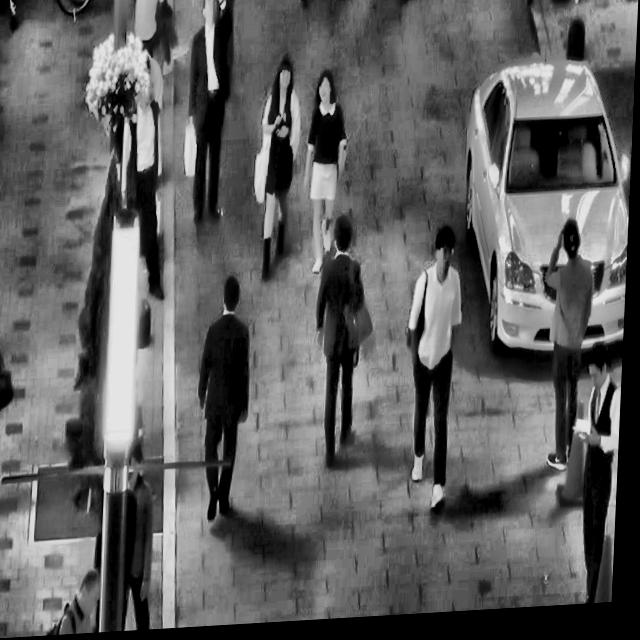light_vehicle: (454, 44, 637, 376)
